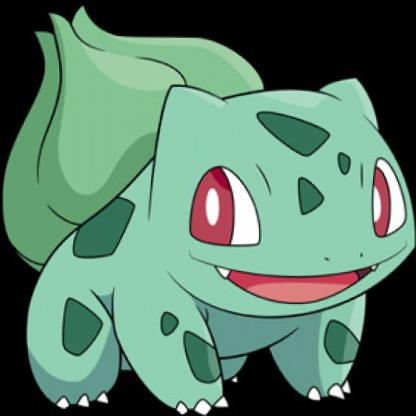Bulbasaur: (28, 48, 363, 408)
